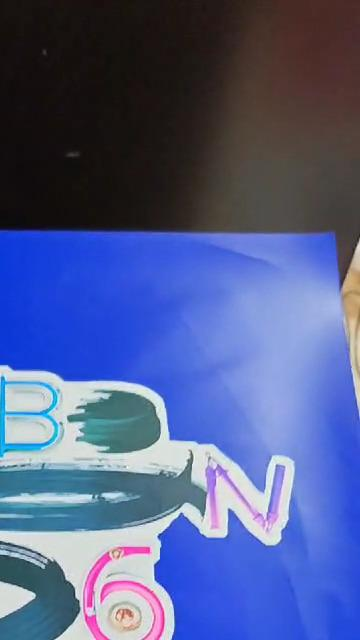B_R1: (0, 355, 319, 640)
